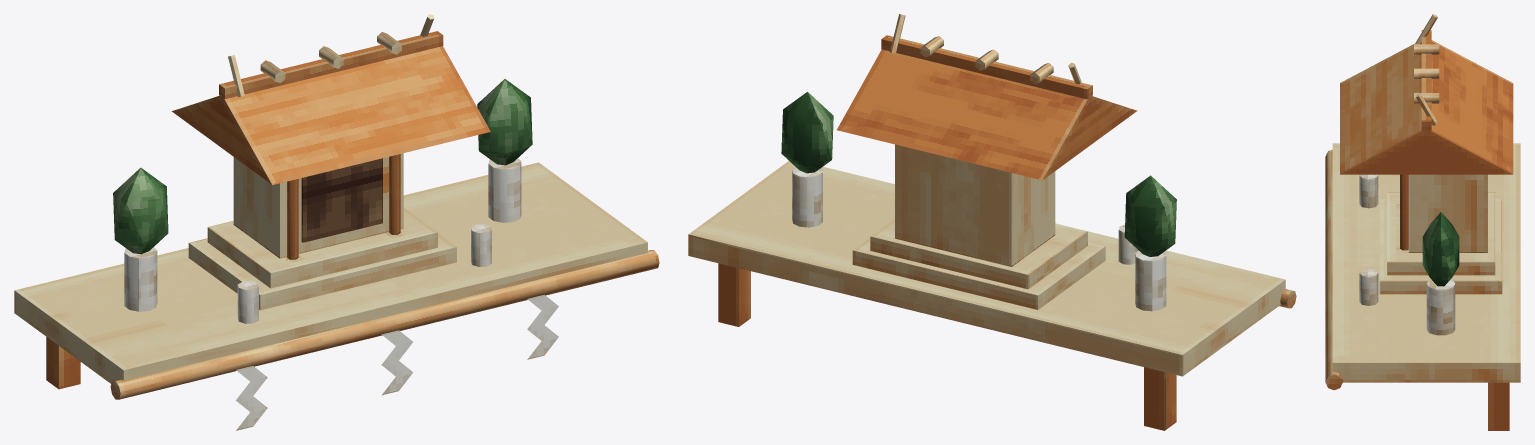
The model's file is kamidana_own.glb.
3 renders of one model, left to right at view 1: azimuth 30°, elevation 25°; view 2: azimuth 150°, elevation 25°; view 3: azimuth 270°, elevation 25°, orthographic. The views are drawn at different scales.
Visible parts, largest first — view 1: mesh; view 2: mesh; view 3: mesh.
Part boxes in pixels (bbox=[...]): mesh: bbox=[14, 14, 659, 430]; mesh: bbox=[688, 14, 1296, 430]; mesh: bbox=[1325, 14, 1520, 430].
Bounding box in the file's own units: 0.698 × 0.4 × 0.2547.
Materials: 1 (1 with a texture image).
